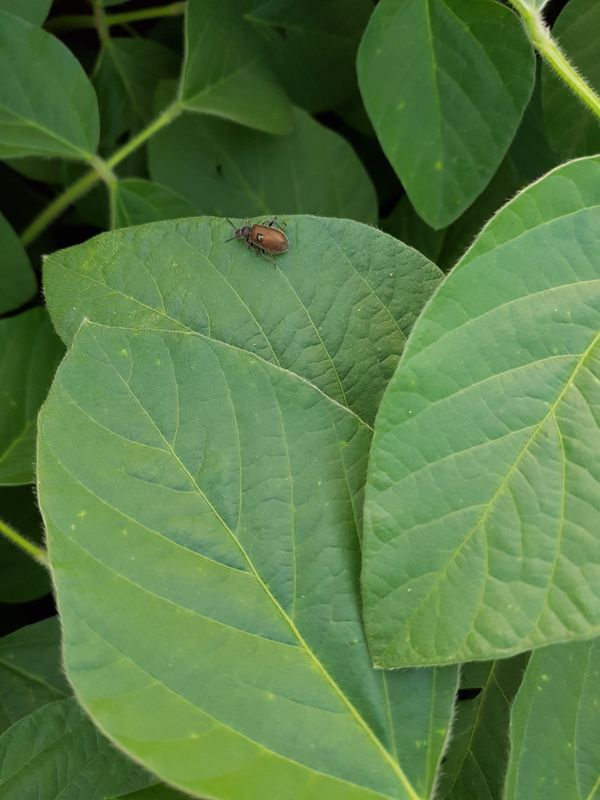Lagria_villosa: (215, 205, 299, 269)
